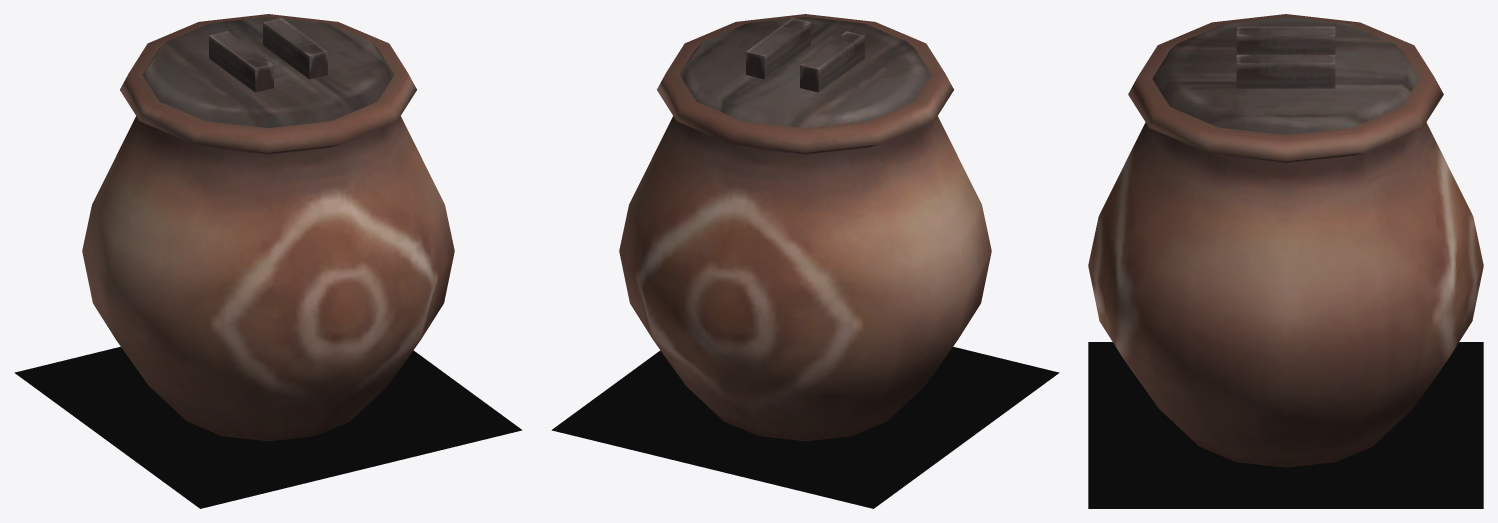
The model's file is red jar.obj.
The picture shows the model from 3 angles, left to right: view 1: azimuth 30°, elevation 25°; view 2: azimuth 150°, elevation 25°; view 3: azimuth 270°, elevation 25°; orthographic projection. The views are drawn at different scales.
Visible parts, largest first — view 1: mesh00-jar, mesh01-shadow; view 2: mesh00-jar, mesh01-shadow; view 3: mesh00-jar, mesh01-shadow.
Part boxes in pixels (x1=…): mesh00-jar: x1=82, y1=14, x2=454, y2=441; mesh01-shadow: x1=14, y1=346, x2=522, y2=508; mesh00-jar: x1=619, y1=14, x2=991, y2=441; mesh01-shadow: x1=551, y1=346, x2=1059, y2=508; mesh00-jar: x1=1088, y1=14, x2=1483, y2=467; mesh01-shadow: x1=1088, y1=342, x2=1483, y2=508.
Bounding box in the file's own units: 0.7006 × 0.7421 × 0.7006.
Materials: 2 (2 with a texture image).
